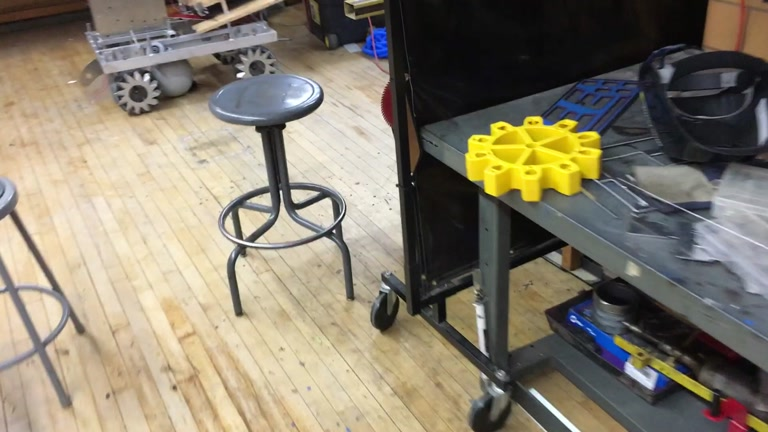gear: (464, 116, 602, 202)
